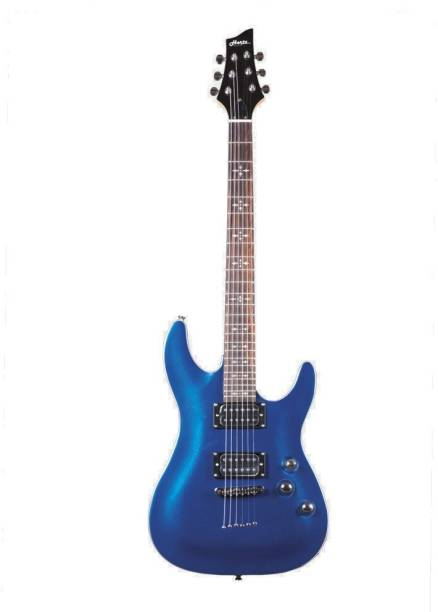ElectricGuitar: (153, 36, 336, 588)
